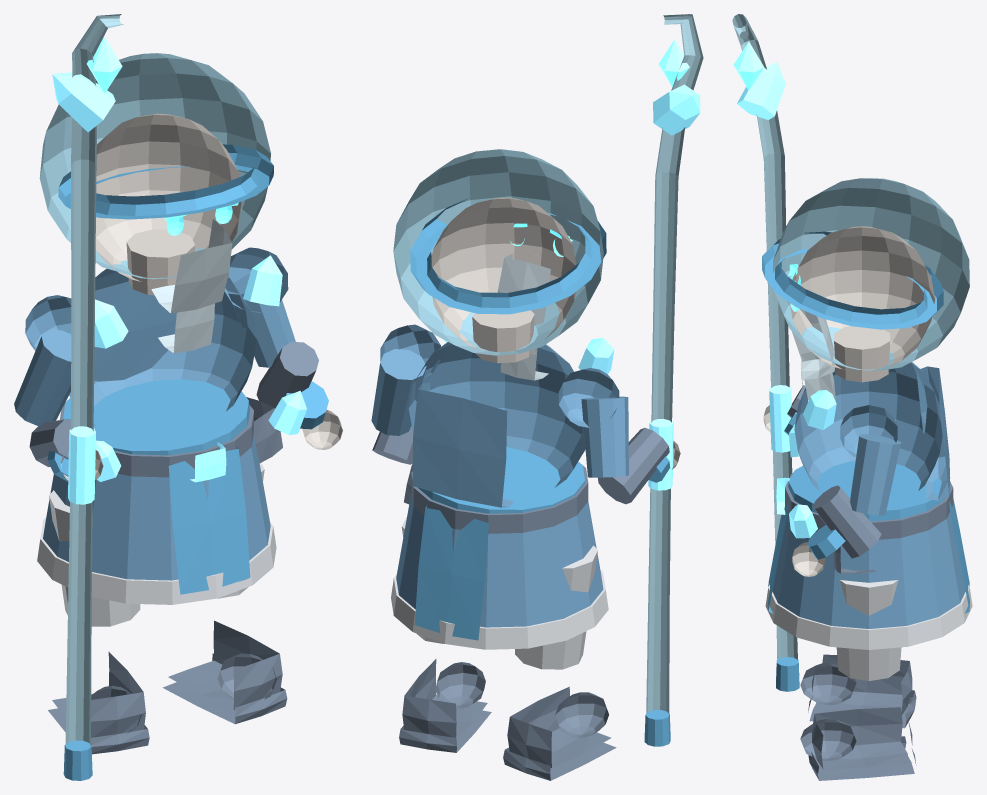
Rendered from mago_de_hielo.glb.
The picture shows the model from 3 angles, left to right: view 1: azimuth 30°, elevation 25°; view 2: azimuth 150°, elevation 25°; view 3: azimuth 270°, elevation 25°; orthographic projection. The views are drawn at different scales.
Parts seen in each view (by area): view 1: MagoDeHielo; view 2: MagoDeHielo; view 3: MagoDeHielo.
Part boxes in pixels (bbox=[...]): MagoDeHielo: bbox=[14, 14, 342, 780]; MagoDeHielo: bbox=[371, 14, 703, 780]; MagoDeHielo: bbox=[732, 14, 972, 780].
Bounding box in the file's own units: 0.6595 × 1.6 × 0.5198.
